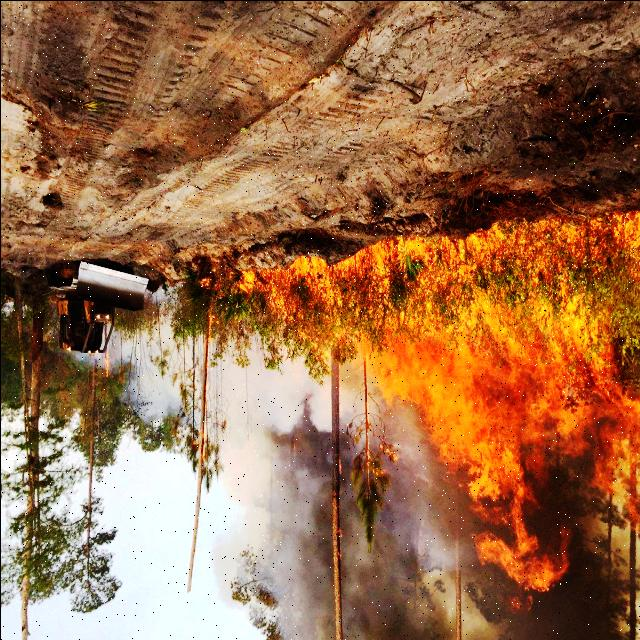api: (469, 232, 556, 586), (383, 245, 461, 461), (554, 220, 630, 422)
asap: (258, 424, 426, 640), (206, 365, 330, 559), (560, 427, 640, 573), (446, 587, 634, 635), (78, 330, 176, 413)
